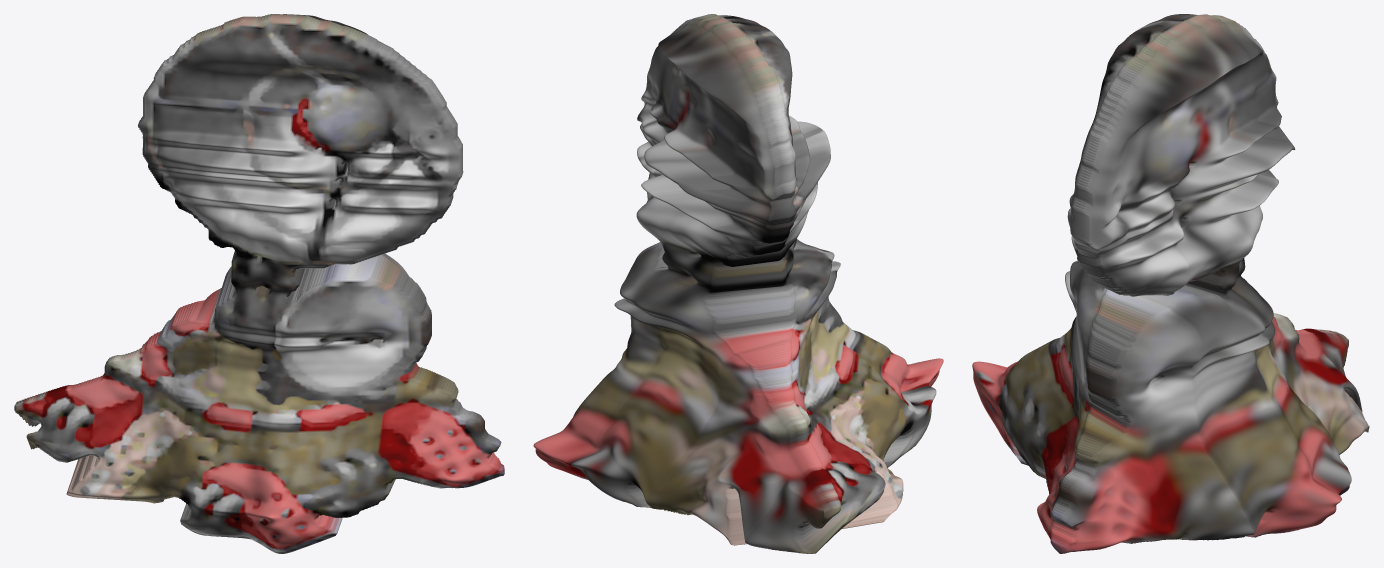
File: soviet_radar_tower.glb
3 views of the same model, side by side, from view 1: azimuth 30°, elevation 25°; view 2: azimuth 150°, elevation 25°; view 3: azimuth 270°, elevation 25° (orthographic). The views are drawn at different scales.
Visible parts, largest first — view 1: soviet_radar_tower; view 2: soviet_radar_tower; view 3: soviet_radar_tower.
Boxes of the visible parts, x1,y1,x2,y2 form: soviet_radar_tower: (14,14,504,553); soviet_radar_tower: (533,14,943,553); soviet_radar_tower: (972,14,1369,553).
Bounding box in the file's own units: 1.31 × 1.59 × 1.27.
